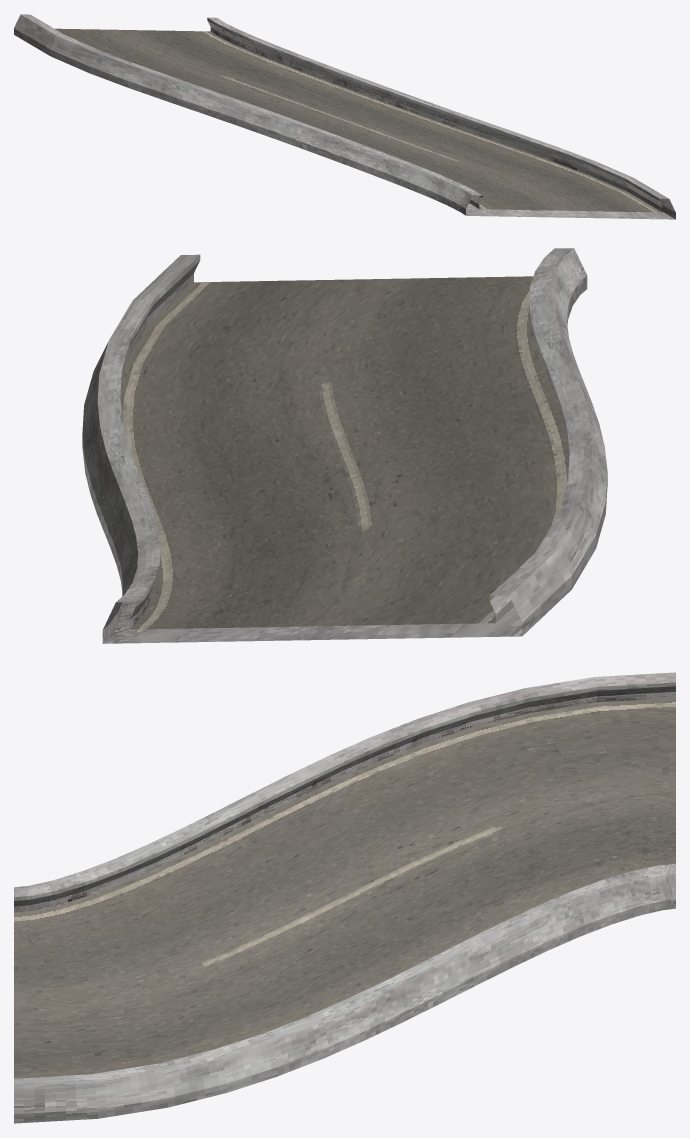
The model's file is road-Chicane-HalfBankedRight-HalfBankedRight-Up1-Left1-Size2.glb.
The picture shows the model from 3 angles, top to bottom: view 1: azimuth 30°, elevation 25°; view 2: azimuth 150°, elevation 25°; view 3: azimuth 270°, elevation 25°; orthographic projection. The views are drawn at different scales.
Visible parts, largest first — view 1: road-Chicane-HalfBankedRight-HalfBankedRight-Up1-Left1-Size2; view 2: road-Chicane-HalfBankedRight-HalfBankedRight-Up1-Left1-Size2; view 3: road-Chicane-HalfBankedRight-HalfBankedRight-Up1-Left1-Size2.
Part boxes in pixels (bbox=[...]): road-Chicane-HalfBankedRight-HalfBankedRight-Up1-Left1-Size2: bbox=[14, 14, 675, 219]; road-Chicane-HalfBankedRight-HalfBankedRight-Up1-Left1-Size2: bbox=[82, 248, 607, 643]; road-Chicane-HalfBankedRight-HalfBankedRight-Up1-Left1-Size2: bbox=[14, 672, 675, 1123].
Size of the model in its own units: 2 by 0.5859 by 2.
2 materials, 2 textured.
